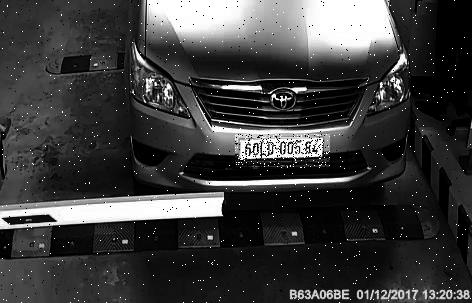License-plate: (236, 136, 331, 170)
